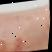plaque psoriasis: (0, 33, 27, 52)
